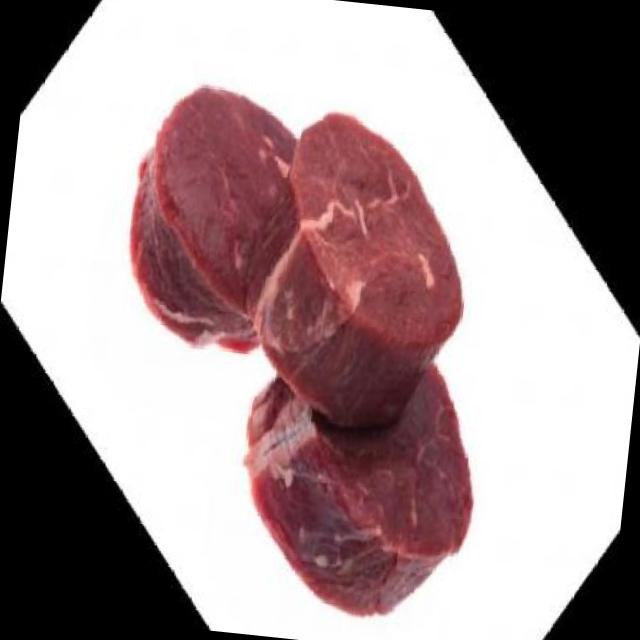beef: (38, 0, 601, 640)
